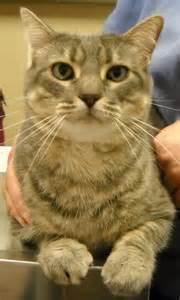cat: (9, 7, 175, 295)
